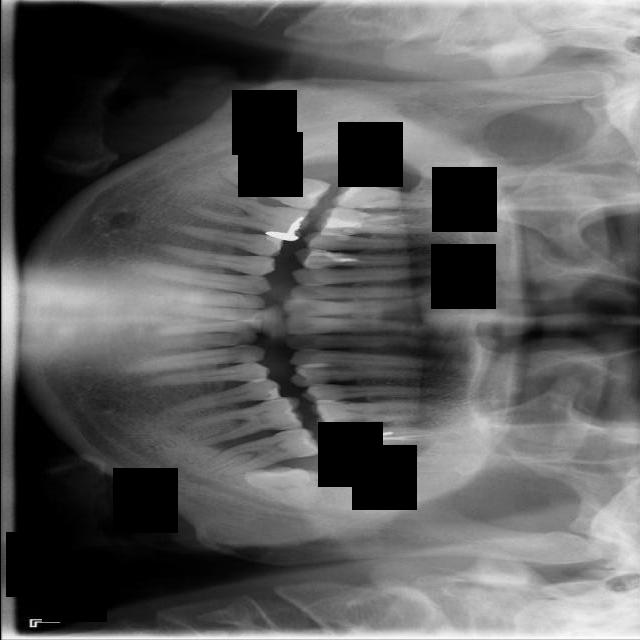52: (259, 205, 311, 242), (314, 208, 364, 236), (324, 425, 370, 454), (293, 249, 344, 269), (240, 378, 280, 401), (303, 232, 350, 251), (245, 234, 283, 257)
73: (363, 416, 464, 452), (353, 213, 460, 235), (20, 620, 28, 628)
BioHorizons Implant: (322, 422, 464, 456)
Biomet 3i Implant: (241, 461, 325, 512)
Blue Sky Bio Implant: (202, 423, 323, 483)
Caries: (331, 182, 460, 210)
Implant: (216, 163, 330, 213)
